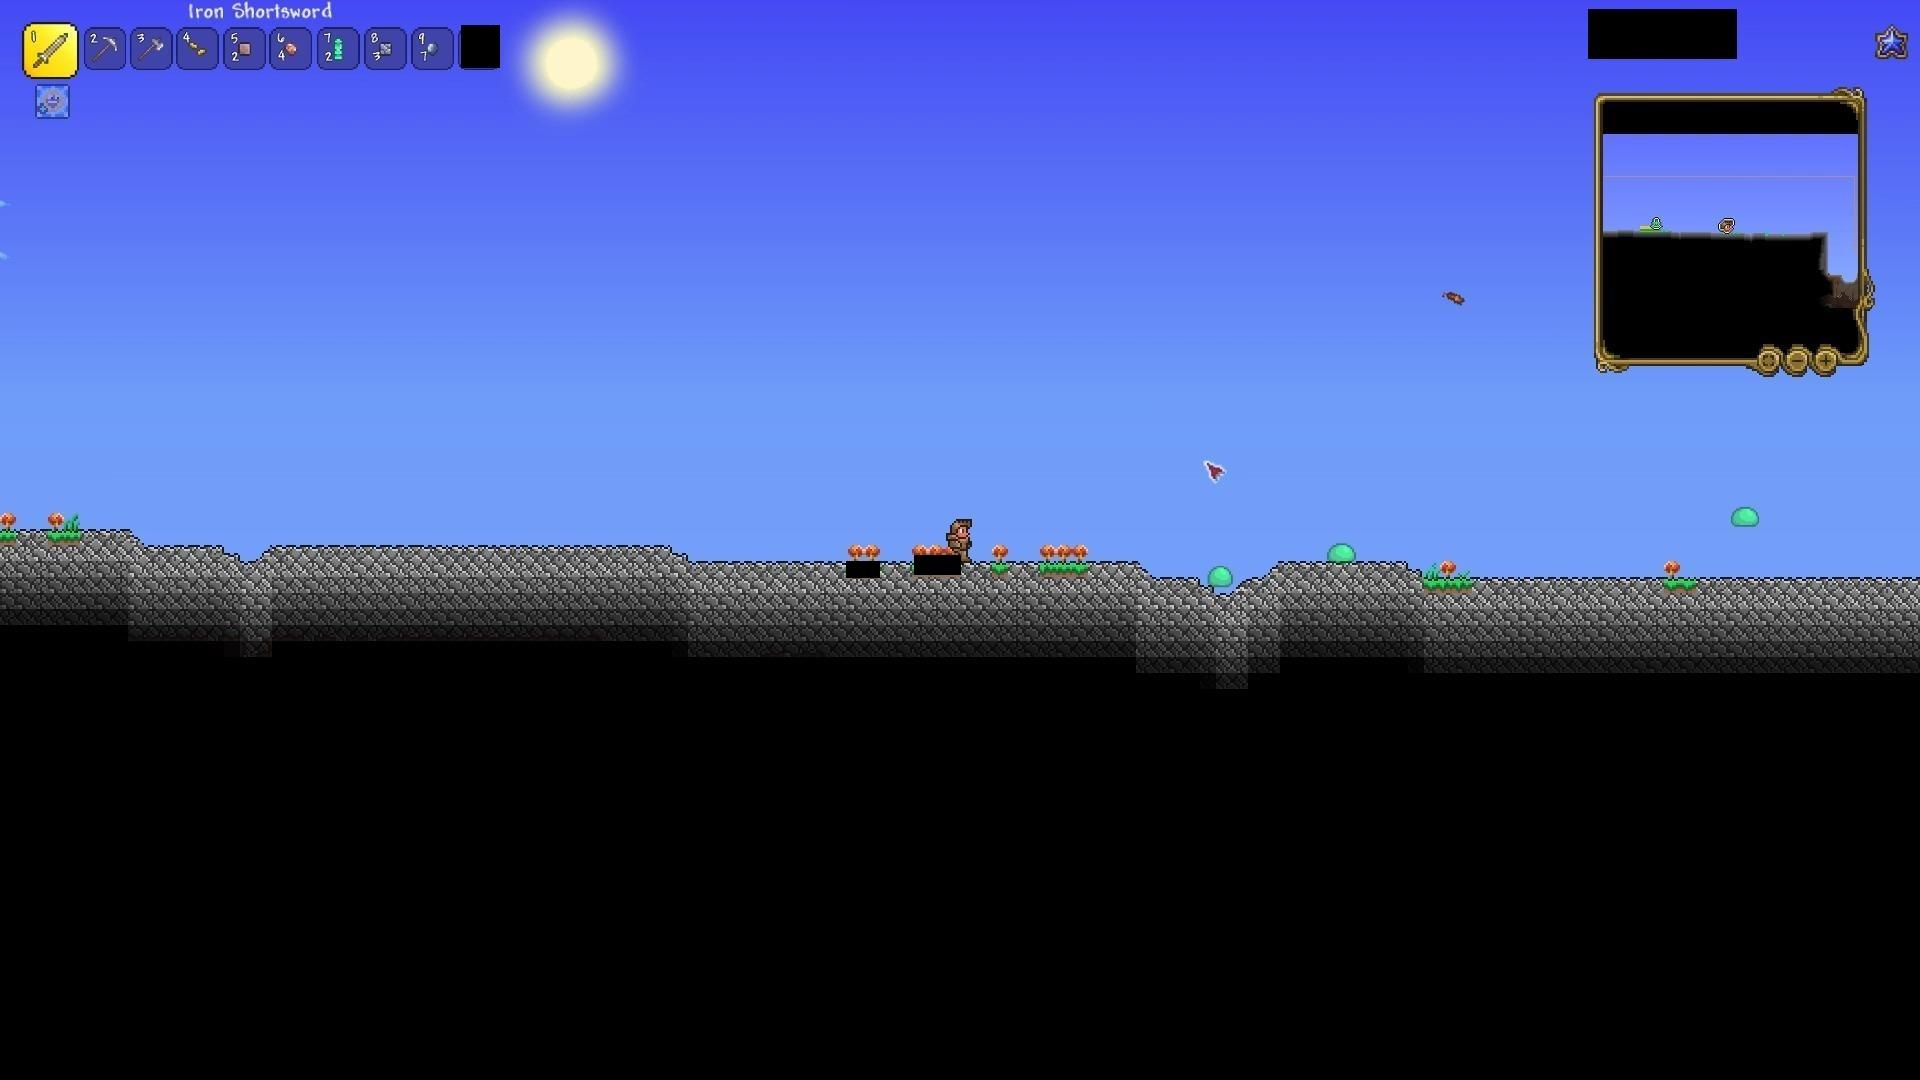dirt: (1039, 555, 1085, 574), (1422, 575, 1468, 593), (1663, 574, 1696, 591), (49, 526, 80, 542)
slime: (1323, 535, 1358, 564), (1729, 502, 1763, 531), (1205, 560, 1237, 587)
